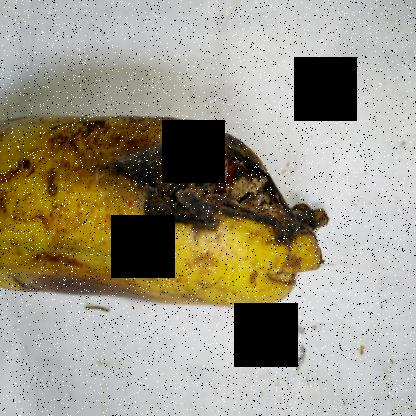ripe: (0, 105, 336, 335)
rotten: (115, 90, 309, 302), (21, 236, 159, 326)
